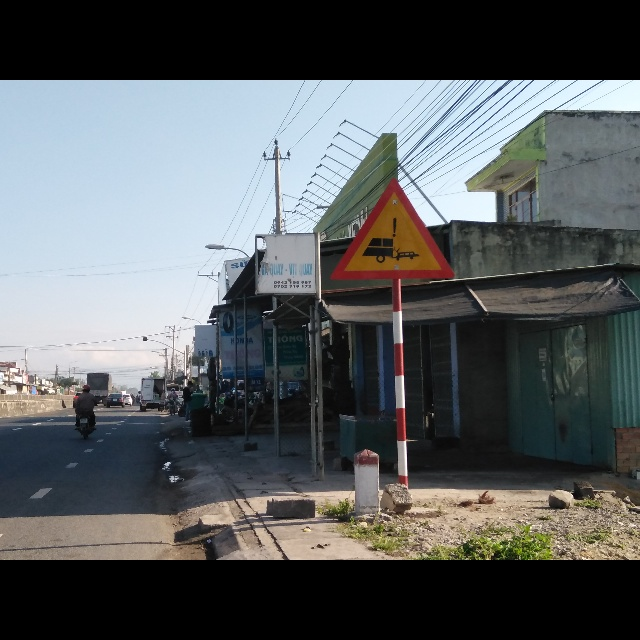Đoạn đường hay xảy ra tai nạn: (329, 173, 458, 283)
